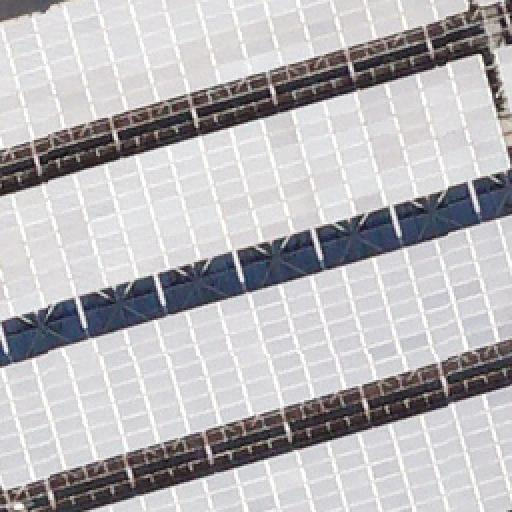solar-panel: (0, 213, 512, 491), (0, 53, 512, 323), (1, 0, 471, 148), (89, 385, 511, 511), (496, 45, 512, 107), (476, 0, 512, 12)
